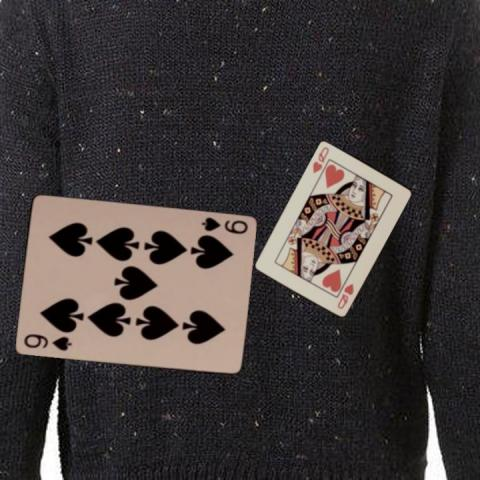9s: (20, 330, 73, 352), (198, 215, 249, 236)
Qh: (309, 143, 331, 175), (334, 280, 355, 310)
